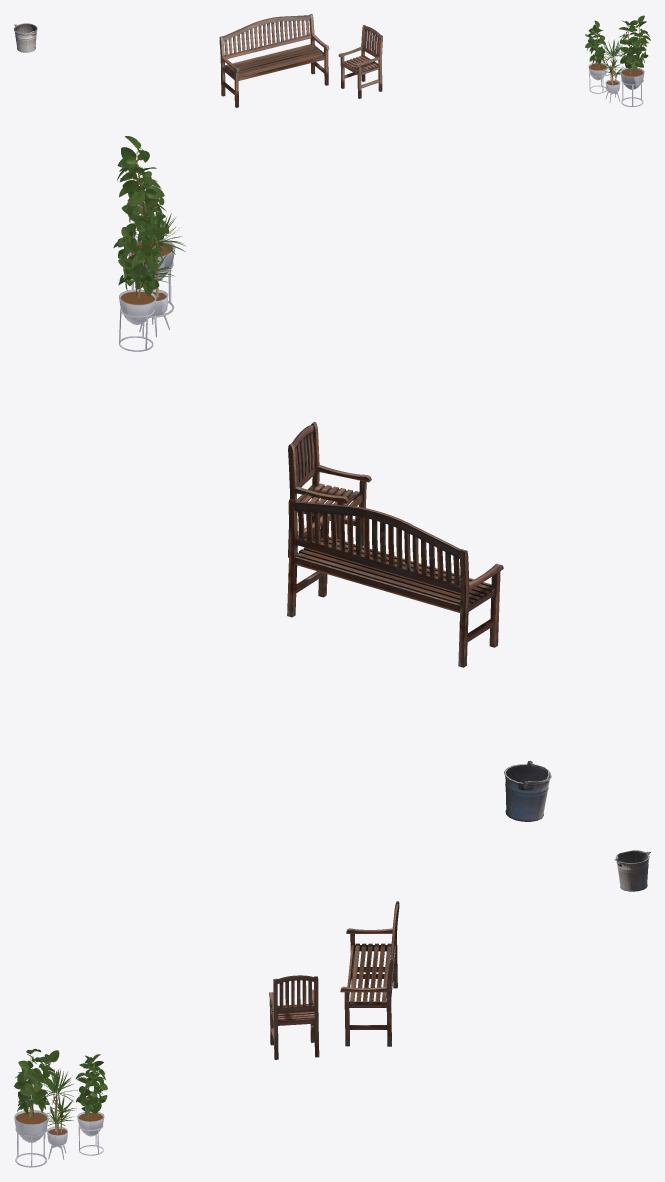
The model's file is Ornamentos.glb.
3 views of the same model, one above another, from view 1: azimuth 30°, elevation 25°; view 2: azimuth 150°, elevation 25°; view 3: azimuth 270°, elevation 25° (orthographic). The views are drawn at different scales.
Parts seen in each view (by area): view 1: Banco01, Vaso01, Banco02, Vaso03, Vaso02, Balde; view 2: Banco01, Vaso03, Banco02, Vaso01, Balde, Vaso02; view 3: Banco01, Vaso01, Banco02, Vaso03, Vaso02, Balde.
Part boxes in pixels (x1,y1,x2,y2): Banco01: (219,14,329,107); Vaso01: (619,15,650,106); Banco02: (338,25,382,98); Vaso03: (585,20,607,93); Vaso02: (598,39,624,102); Balde: (14,23,37,52); Banco01: (287,499,503,667); Vaso03: (113,214,168,351); Banco02: (288,422,371,557); Vaso01: (117,136,175,317); Balde: (504,760,551,821); Vaso02: (132,209,186,337); Banco01: (340,901,399,1046); Vaso01: (14,1048,59,1167); Banco02: (269,975,319,1059); Vaso03: (75,1054,107,1155); Vaso02: (41,1068,78,1159); Balde: (614,850,650,891).
Size of the model in its own units: 9.63 by 2.19 by 8.74.
1 material, 1 textured.
